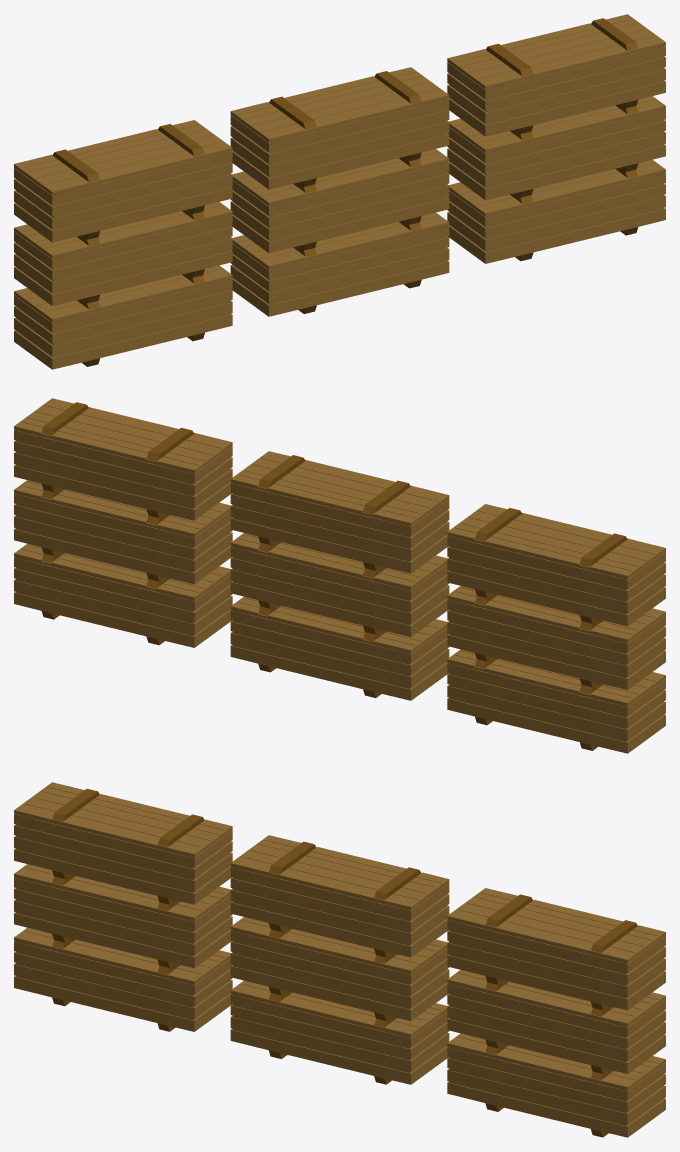
File: WoodenLongCrate 1.fbx
The picture shows the model from 3 angles, top to bottom: view 1: azimuth 30°, elevation 25°; view 2: azimuth 150°, elevation 25°; view 3: azimuth 330°, elevation 25°; orthographic projection.
Visible parts, largest first — view 1: WoodenLongCrate; view 2: WoodenLongCrate; view 3: WoodenLongCrate.
Boxes of the visible parts, <box> form: WoodenLongCrate: <box>14,14,665,369</box>; WoodenLongCrate: <box>14,398,665,753</box>; WoodenLongCrate: <box>14,782,665,1137</box>.
Size of the model in its own units: 2078 by 617 by 226.
